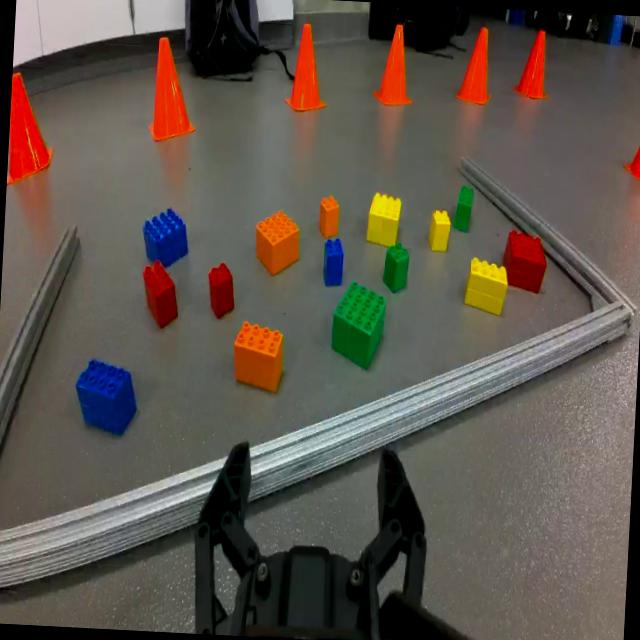block: (462, 257, 510, 322), (367, 194, 403, 248), (428, 208, 454, 256)
blue: (74, 357, 140, 440), (139, 202, 191, 272), (322, 239, 346, 287)
cone: (146, 31, 202, 146), (8, 70, 58, 194), (285, 21, 331, 117), (372, 20, 418, 111), (454, 27, 495, 110), (512, 26, 554, 104)
green: (332, 279, 386, 374), (384, 245, 410, 293), (454, 182, 476, 236)
metal barrier: (0, 158, 638, 590)
orange: (230, 318, 288, 400), (254, 206, 303, 278), (319, 194, 341, 240)
red goal: (136, 258, 182, 332), (502, 229, 549, 296), (206, 262, 238, 321)
